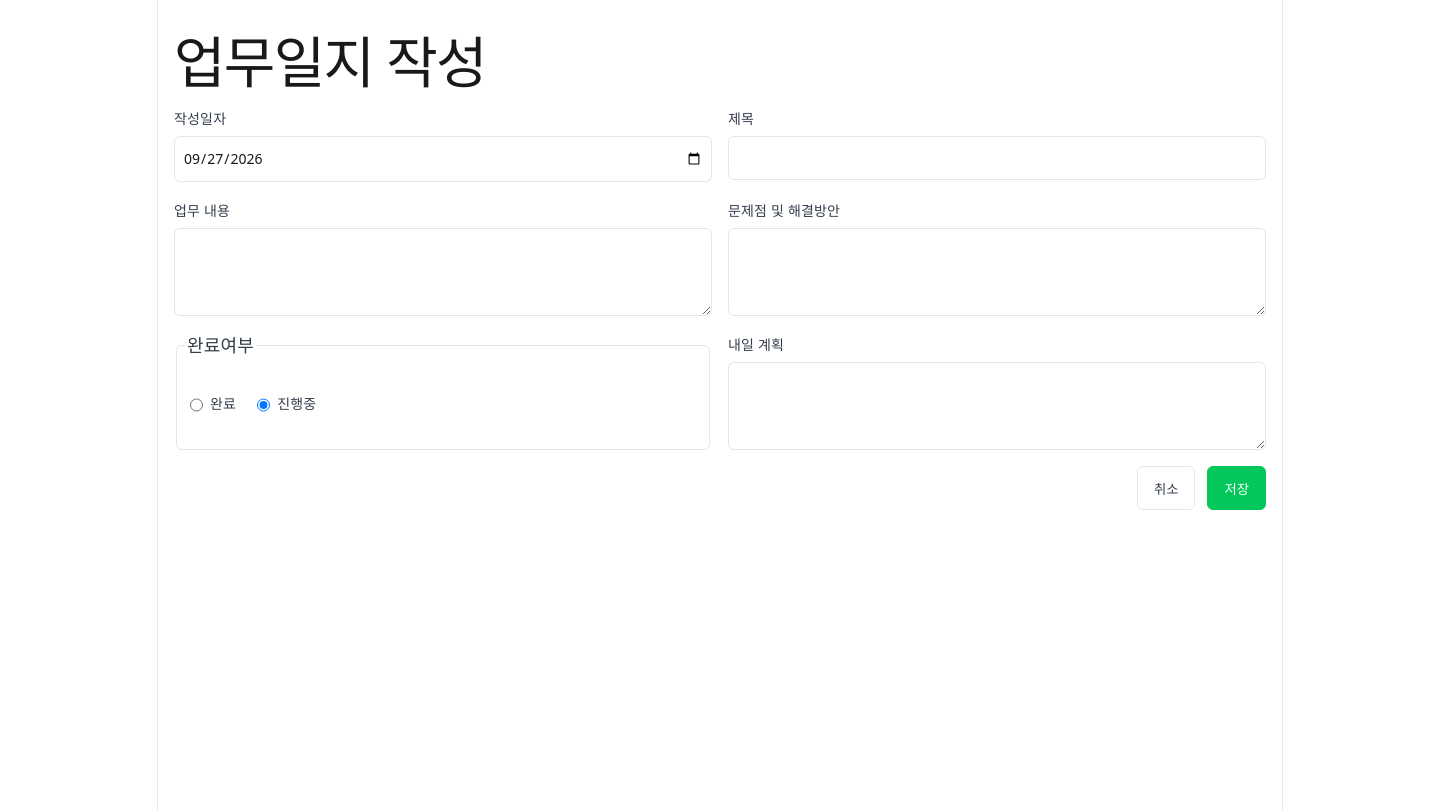
WorkLogFormPage › 에러 메시지 박스의 확인 버튼을 누르면 닫힌다
Type "새 업무" into the field labelled "제목".
click(997, 158); type("새 업무")  # box left=728, top=136, right=1266, bottom=180
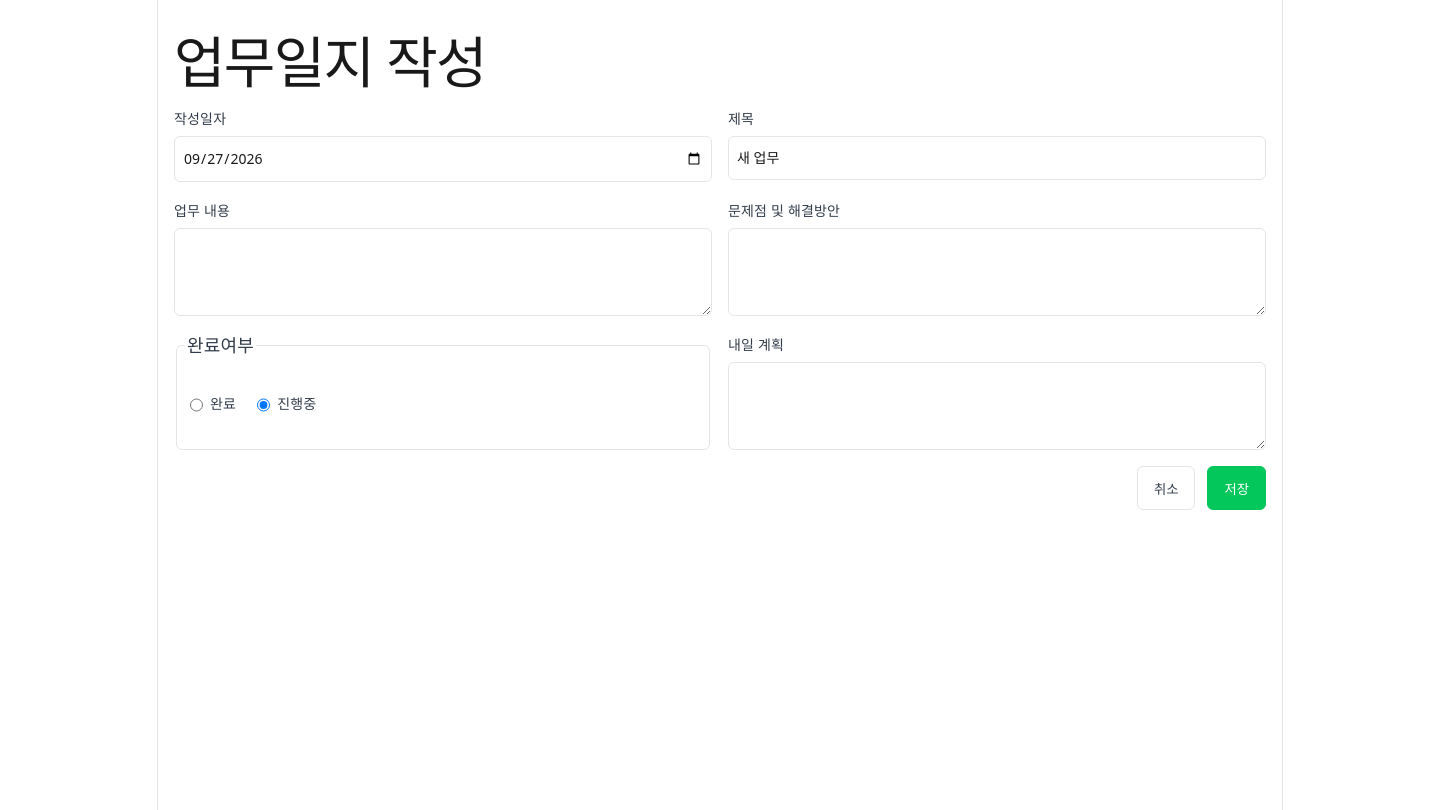
Type "내용입니다" into the text box labelled "업무 내용".
click(443, 272); type("내용입니다")  # box left=174, top=228, right=712, bottom=316
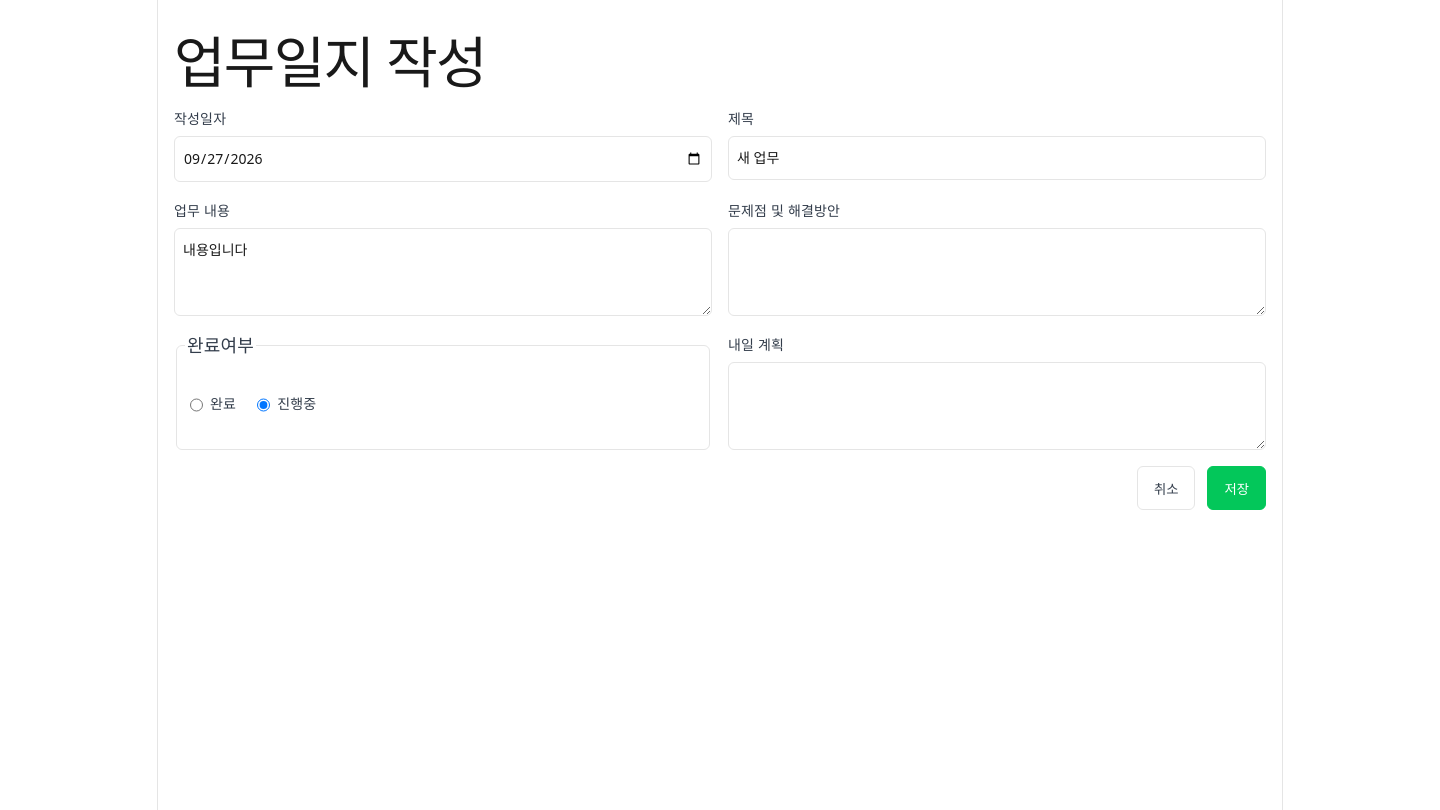
Click the radio button named "isCompleted".
click(196, 406)  # box left=190, top=384, right=203, bottom=428
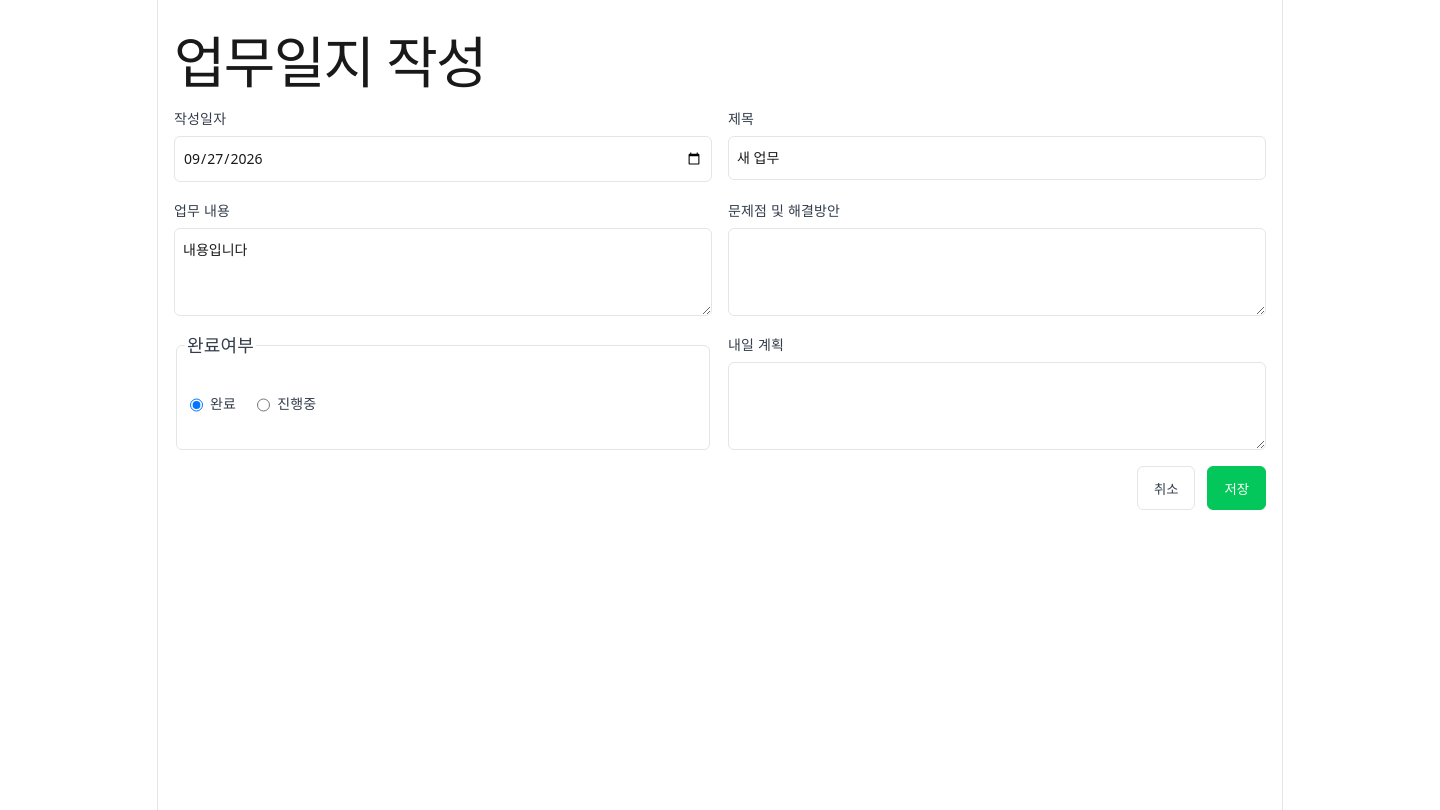
Click the button "저장".
click(1237, 488)  # box left=1208, top=466, right=1266, bottom=510
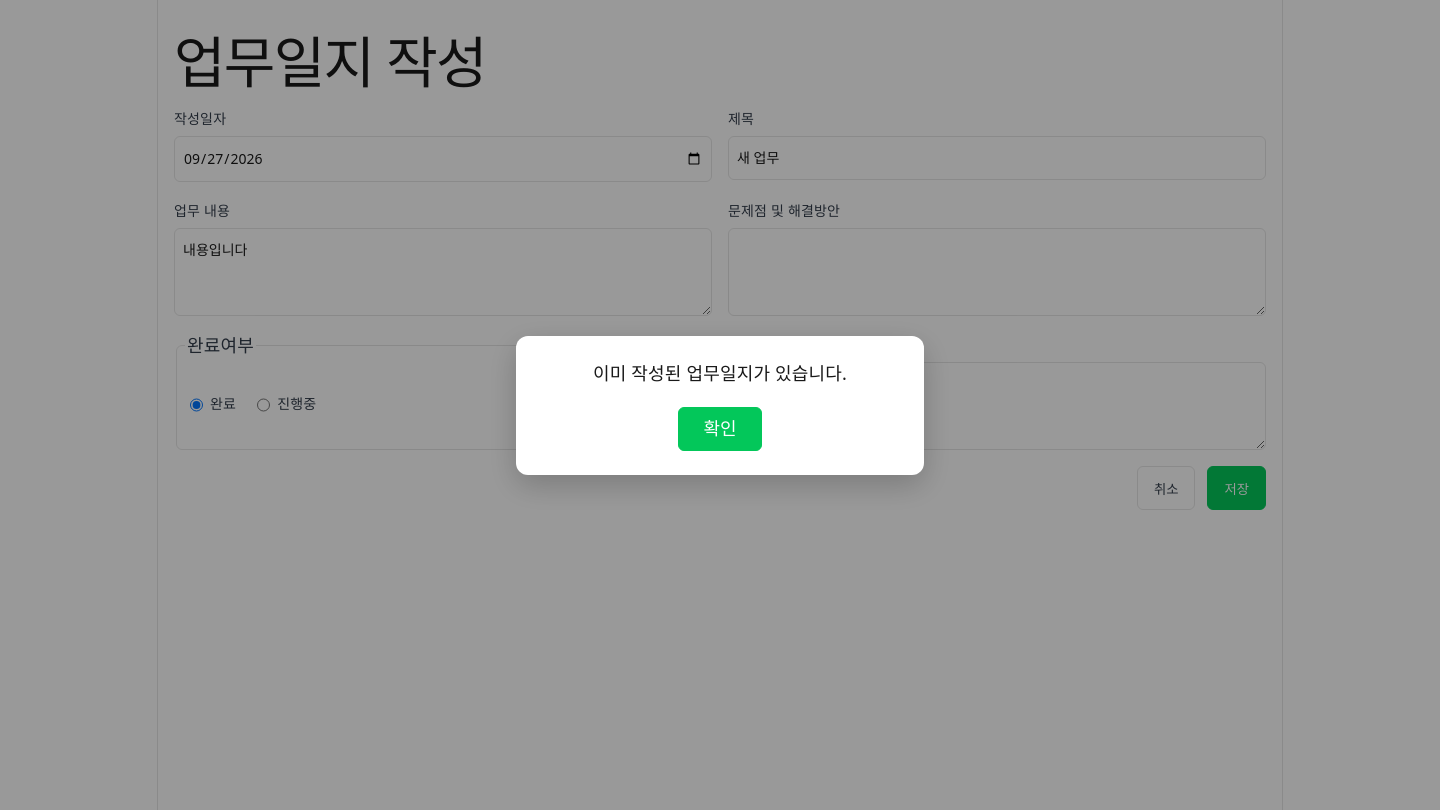
Expected: the message "이미 작성된 업무일지가 있습니다. 확인" is shown, left=516, top=336, right=924, bottom=474
Click the button "확인".
click(720, 428)  # box left=678, top=406, right=762, bottom=450
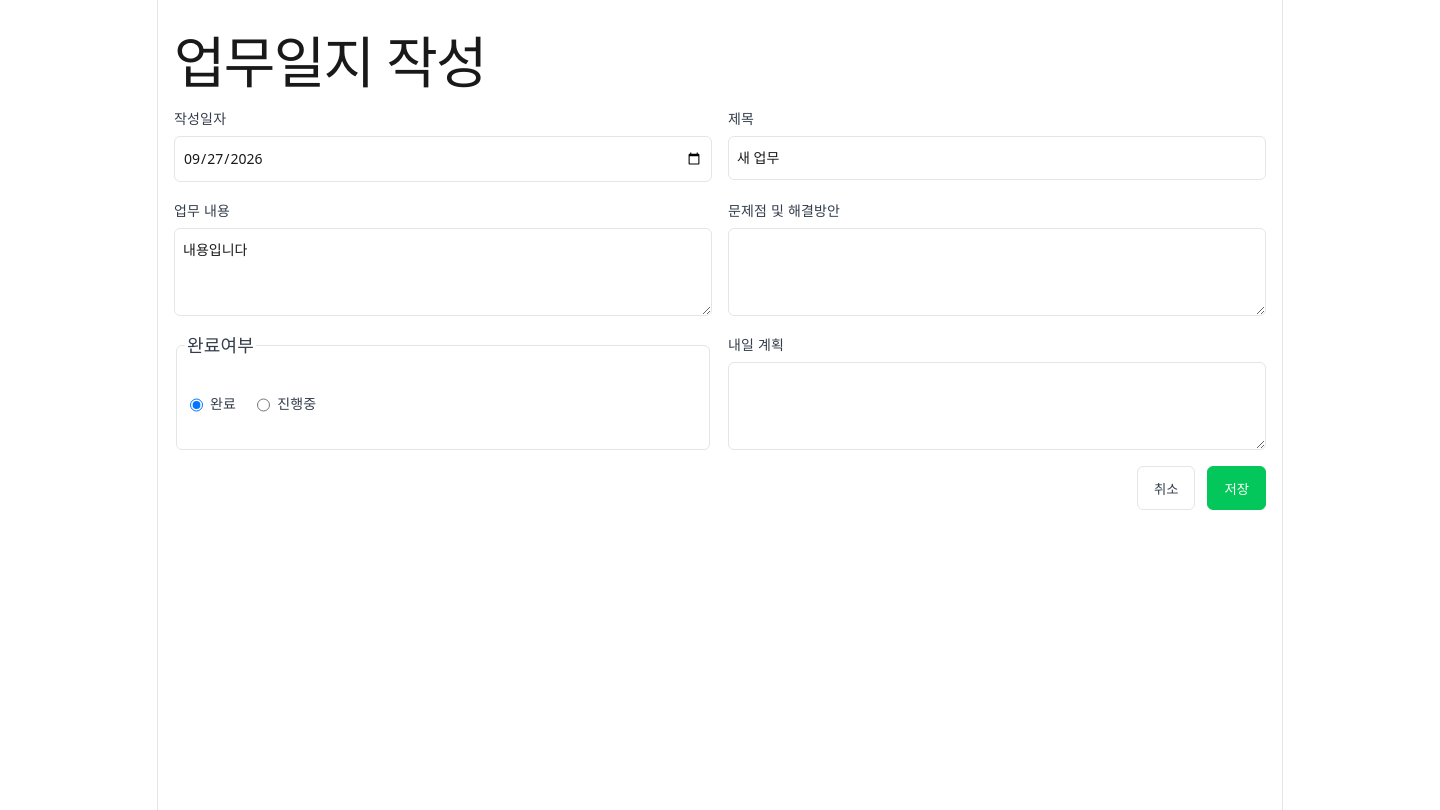
Expected: the message "이미 작성된 업무일지가 있습니다. 확인" is gone
